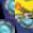mirror: (0, 0, 15, 19), (0, 19, 15, 33)
